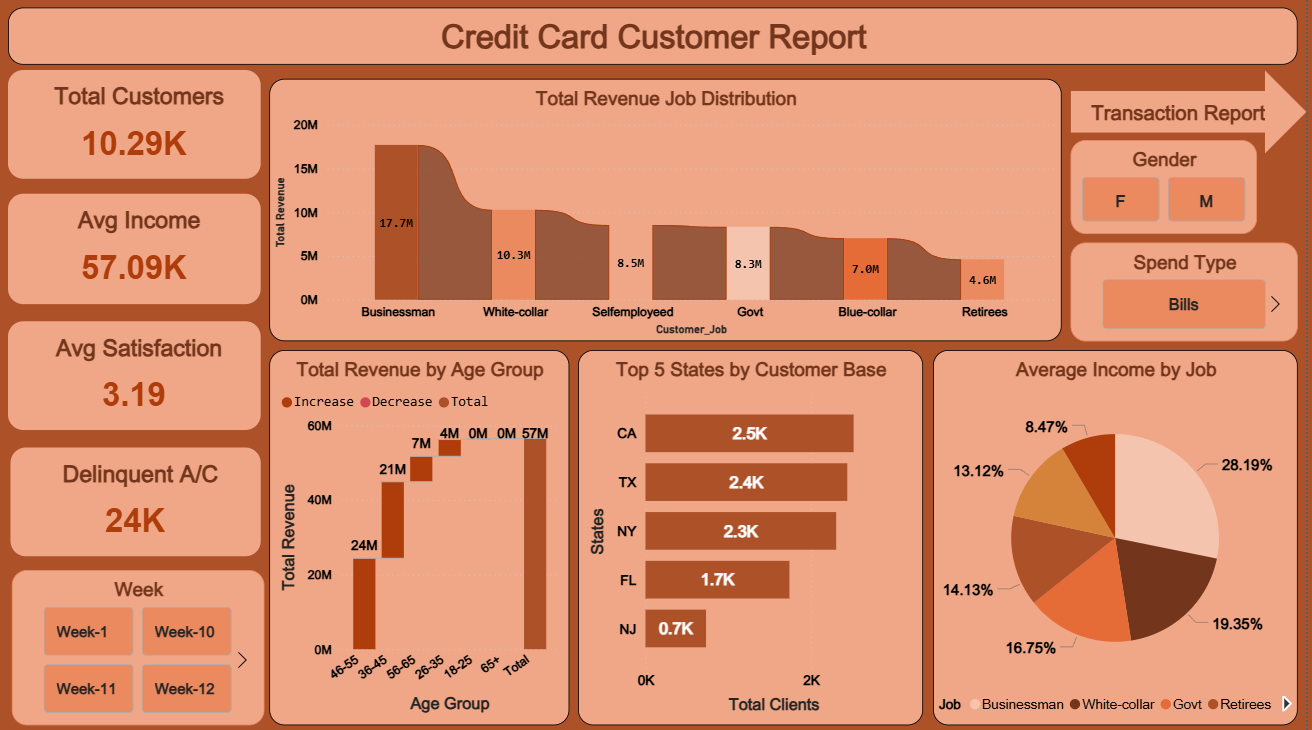

The page's visual inventory and layout, read from the dashboard file:
{"tool":"powerbi","page":{"name":"Customer","canvas":[1280,720],"ordinal":0},"visuals":[{"type":"textbox","title":"Credit Card Customer Report","box":[9.8,12.8,1262,56.3],"z":0},{"type":"advancedSlicerVisual","fields":{"Values":["customer.Gender"]},"box":[1049.2,141.8,182.2,91.7],"z":1000},{"type":"card","title":"Total Customers","fields":{"Values":["CountNonNull(customer.Client_Num)"]},"box":[9.8,73.4,247,106.4],"z":2000},{"type":"card","title":"Avg Income","fields":{"Values":["Avg(customer.Income)"]},"box":[9.8,194.4,247,107.6],"z":3000},{"type":"card","title":"Avg Satisfaction","fields":{"Values":["Avg(customer.Cust_Satisfaction_Score)"]},"box":[9.8,319.2,247,106.4],"z":4000},{"type":"card","title":"Delinquent A/C","fields":{"Values":["Sum(customer.Dependent_Count)"]},"box":[12.2,442.7,244.6,106.4],"z":5000},{"type":"advancedSlicerVisual","fields":{"Values":["Sheet1.Week_Num"]},"box":[13.5,562.5,247,151.6],"z":6000},{"type":"advancedSlicerVisual","fields":{"Values":["Sheet1.Exp Type"]},"box":[1049.2,242.1,222.6,96.6],"z":7000},{"type":"shape","title":"Transaction Report","box":[1049.2,73.4,231.1,81.9],"z":8000},{"type":"ribbonChart","title":"Total Revenue Job Distribution","fields":{"Category":["customer.Customer_Job"],"Y":["Sheet1.Total Revenue"]},"box":[265.4,81.9,775.3,256.8],"z":9000},{"type":"pieChart","fields":{"Category":["customer.Customer_Job"],"Y":["Avg(customer.Income)"]},"box":[914.7,347.3,357.1,366.8],"z":10000},{"type":"waterfallChart","fields":{"Category":["customer.Age Group"],"Y":["Sheet1.Total Revenue"]},"box":[265.4,347.3,293.5,366.8],"z":11000},{"type":"clusteredBarChart","title":"Top 5 States by Customer Base","fields":{"Category":["customer.state_cd"],"Y":["CountNonNull(customer.Client_Num)"]},"box":[567.4,347.3,337.5,366.8],"z":12000}]}

Visuals, with their boxes in screenshot pixels (x1, y1, x2, y2), scaled from the page's 1280x720 canvas onto the 1312x730 screenshot:
"Credit Card Customer Report" textbox: bbox(10, 13, 1304, 70)
advancedSlicerVisual - customer.Gender: bbox(1075, 144, 1262, 237)
"Total Customers" card: bbox(10, 74, 263, 182)
"Avg Income" card: bbox(10, 197, 263, 306)
"Avg Satisfaction" card: bbox(10, 324, 263, 432)
"Delinquent A/C" card: bbox(13, 449, 263, 557)
advancedSlicerVisual - Sheet1.Week_Num: bbox(14, 570, 267, 724)
advancedSlicerVisual - Sheet1.Exp Type: bbox(1075, 245, 1304, 343)
"Transaction Report" shape: bbox(1075, 74, 1311, 157)
"Total Revenue Job Distribution" ribbonChart: bbox(272, 83, 1067, 343)
pieChart - customer.Customer_Job x Avg(customer.Income): bbox(938, 352, 1304, 724)
waterfallChart - customer.Age Group x Sheet1.Total Revenue: bbox(272, 352, 573, 724)
"Top 5 States by Customer Base" clusteredBarChart: bbox(582, 352, 928, 724)
